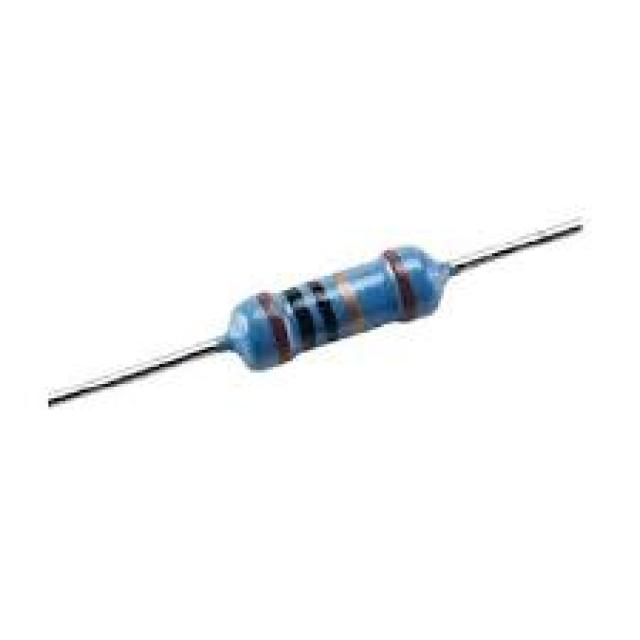Resistor: (166, 227, 500, 400)
